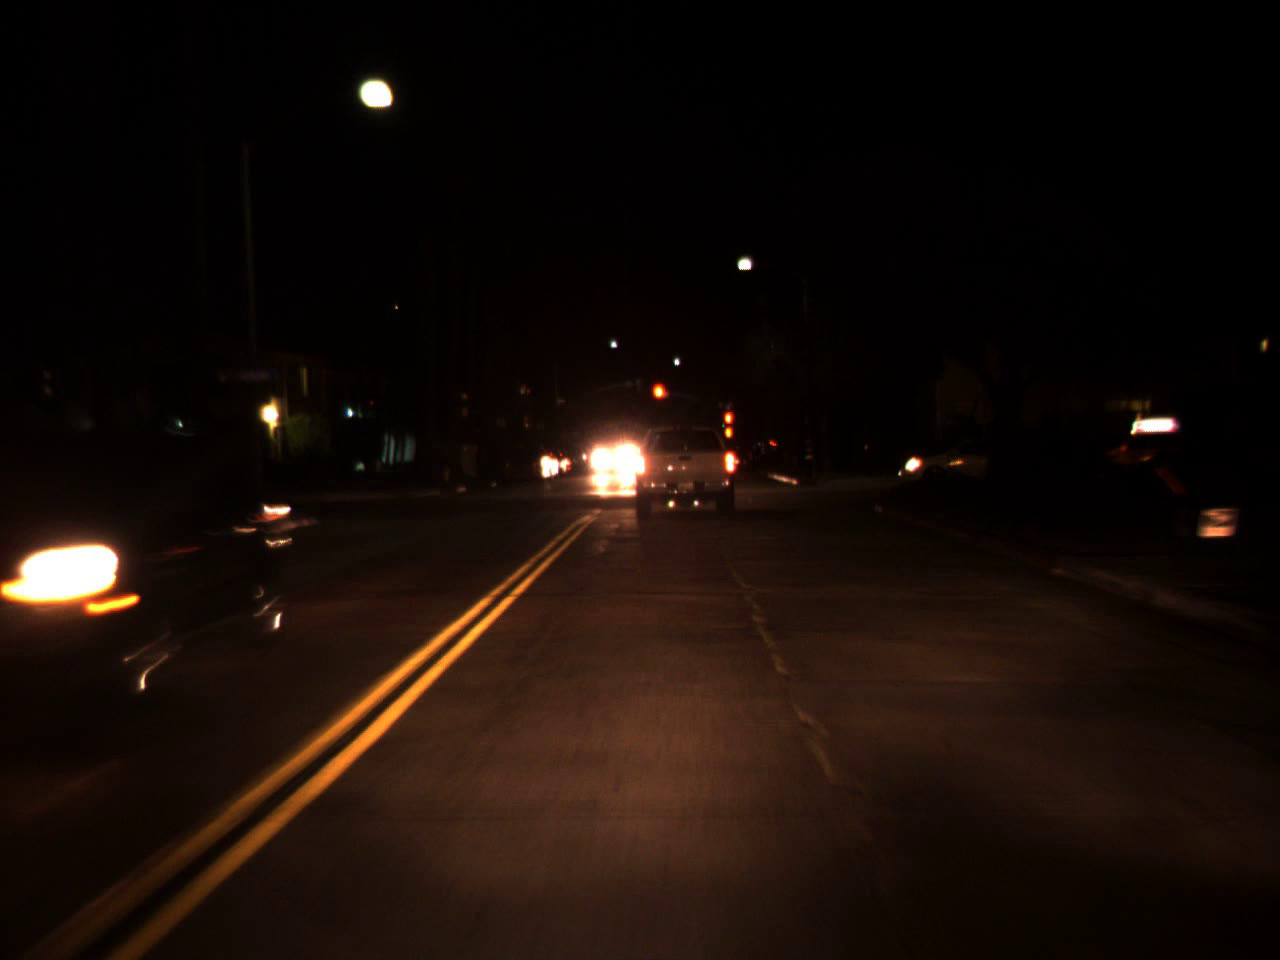stop: (649, 380, 668, 417), (723, 409, 735, 441)
